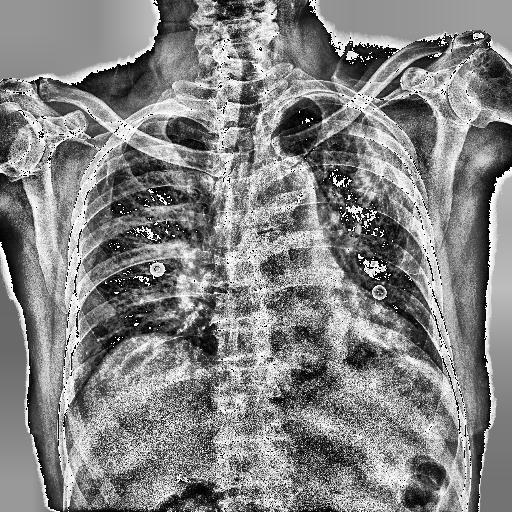0- Aortic enlargement: (248, 151, 320, 220), (258, 154, 320, 224), (254, 156, 320, 218)
11- Pleural thickening: (352, 110, 424, 239)
13- Pulmonary fibrosis: (323, 126, 426, 288), (340, 124, 426, 278)
3- Cardiomegaly: (224, 308, 418, 388), (214, 302, 428, 360)
5- ILD: (72, 164, 200, 344), (323, 126, 426, 288)
7- Lung Opacity: (352, 110, 424, 239)
